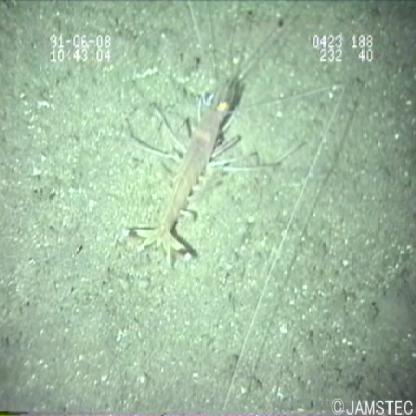Bio: (124, 4, 347, 278)
